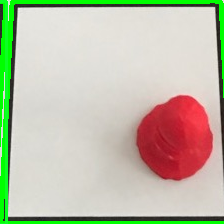Red Bishop: (129, 90, 215, 184)
